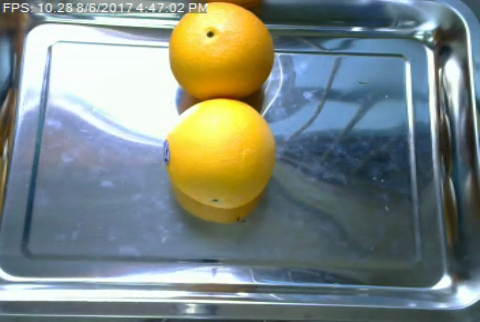Orange: (163, 96, 276, 208), (167, 1, 274, 102)
